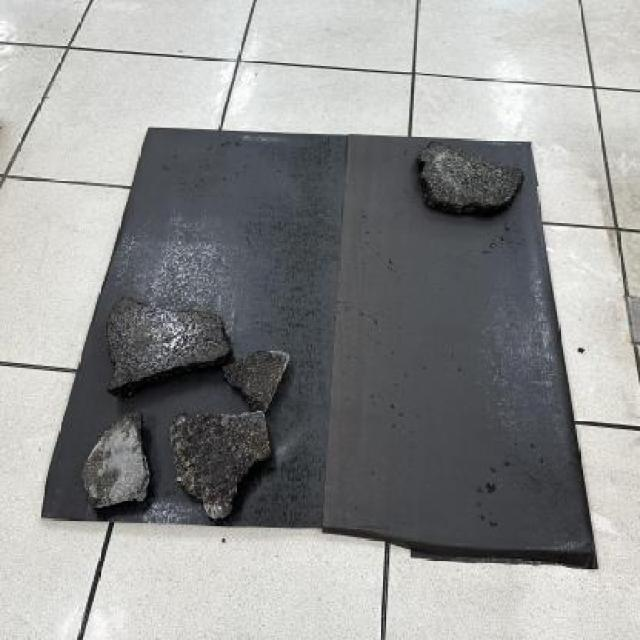Road Debris: (172, 410, 276, 512), (163, 300, 224, 368), (452, 152, 520, 205), (228, 350, 282, 398), (83, 440, 119, 502)
